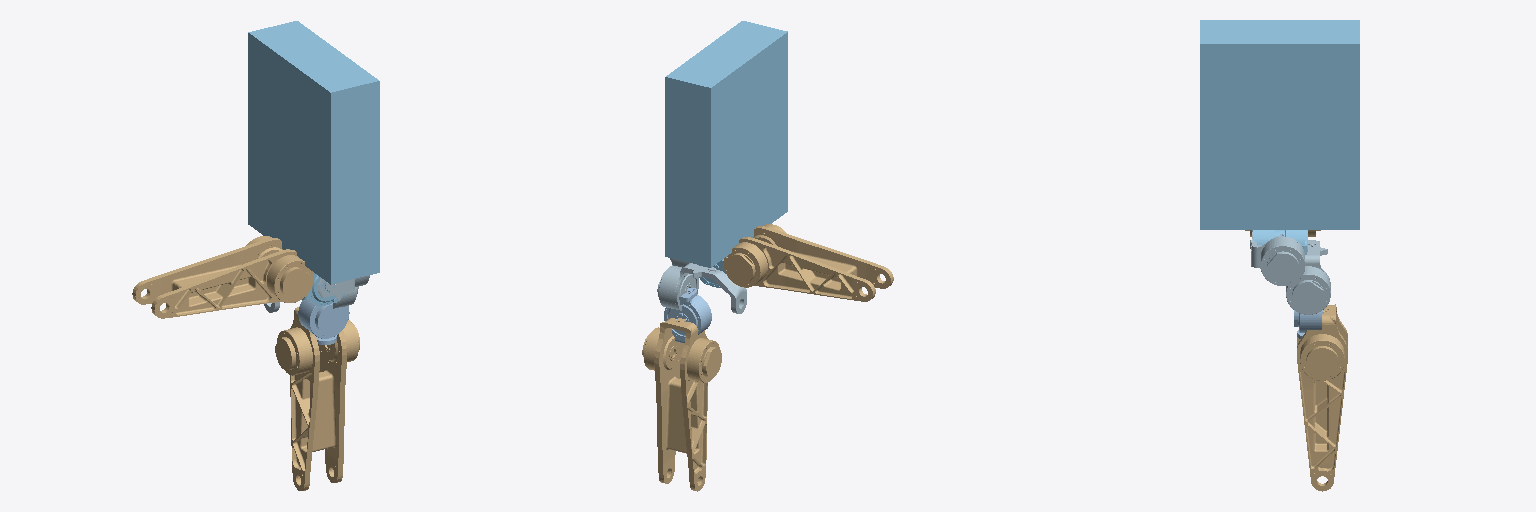
The robot description file, URDF, robot "onshape":
<?xml version="1.0"?>
<robot name="onshape">
  <link name="pelvis">
    <visual>
      <origin xyz="0 0 0" rpy="0 -0 0" />
      <geometry>
        <mesh filename="objects/pelvis_visual.obj"/>
      </geometry>
      <material name="pelvis_material">
        <color rgba="0.62532029905725461383 0.81645820502085475479 0.93089392232856704723 1.0"/>
      </material>
    </visual>
    <collision>
      <origin xyz="0 0 0" rpy="0 -0 0" />
      <geometry>
        <mesh filename="objects/pelvis_collision.obj"/>
      </geometry>
    </collision>
    <inertial>
      <origin xyz="-0.059926348514177954496 -3.5610200680893003136e-17 0.24382720253258152732" rpy="0 0 0"/>
      <mass value="26.987682948015642381" />
      <inertia ixx="0.83289256765053432119" ixy="3.1892774563517368547e-07"  ixz="0.00052931993668545586178" iyy="0.60676978629744049432" iyz="1.9081958235744878039e-17" izz="0.28953844474350470817" />
    </inertial>
  </link>

  <link name="hip_pitch">
    <visual>
      <origin xyz="0 0 0" rpy="0 -0 0" />
      <geometry>
        <mesh filename="objects/hip_pitch_visual.obj"/>
      </geometry>
      <material name="hip_pitch_material">
        <color rgba="0.73185158112174653056 0.81392767005015786985 0.8604379901161185451 1.0"/>
      </material>
    </visual>
    <collision>
      <origin xyz="0 0 0" rpy="0 -0 0" />
      <geometry>
        <mesh filename="objects/hip_pitch_collision.obj"/>
      </geometry>
    </collision>
    <inertial>
      <origin xyz="0.06264690243961958116 -2.9039129212797180842e-05 -0.056649373065881004907" rpy="0 0 0"/>
      <mass value="1.2186205403912051537" />
      <inertia ixx="0.12" ixy="2.0344409172977058653e-06"  ixz="0.00090153156749171346404" iyy="0.13" iyz="4.3388181338293928448e-07" izz="0.11" />
    </inertial>
  </link>

  <link name="hip_roll">
    <visual>
      <origin xyz="0 0 0" rpy="0 -0 0" />
      <geometry>
        <mesh filename="objects/hip_roll_visual.obj"/>
      </geometry>
      <material name="hip_roll_material">
        <color rgba="0.68639636760624267442 0.80885216598202025473 0.91513154554738251889 1.0"/>
      </material>
    </visual>
    <collision>
      <origin xyz="0 0 0" rpy="0 -0 0" />
      <geometry>
        <mesh filename="objects/hip_roll_collision.obj"/>
      </geometry>
    </collision>
    <inertial>
      <origin xyz="-4.600904063047769405e-05 0.0023700541052265509077 -0.062009288232252768314" rpy="0 0 0"/>
      <mass value="1.0036949262519998527" />
      <inertia ixx="0.12" ixy="-1.3656674854689924101e-06"  ixz="-8.7266717099951512649e-07" iyy="0.13" iyz="-3.3294113408689886096e-05" izz="0.11" />
    </inertial>
  </link>

  <link name="upper_leg">
    <visual>
      <origin xyz="0 0 0" rpy="0 -0 0" />
      <geometry>
        <mesh filename="objects/upper_leg_visual.obj"/>
      </geometry>
      <material name="upper_leg_material">
        <color rgba="0.8509746851951229818 0.74215485188645069492 0.56968403348327723013 1.0"/>
      </material>
    </visual>
    <collision>
      <origin xyz="0 0 0" rpy="0 -0 0" />
      <geometry>
        <mesh filename="objects/upper_leg_collision.obj"/>
      </geometry>
    </collision>
    <inertial>
      <origin xyz="1.2169508815199493428e-07 -0.00010242104306716834903 -0.12593596303035636819" rpy="0 0 0"/>
      <mass value="2.8517725769667174873" />
      <inertia ixx="0.14" ixy="-2.615454533586426231e-09"  ixz="-5.6953524560907943519e-06" iyy="0.15" iyz="-4.0533003869232252269e-05" izz="0.13" />
    </inertial>
  </link>

  <link name="lower_leg">
    <visual>
      <origin xyz="0 0 0" rpy="0 -0 0" />
      <geometry>
        <mesh filename="objects/lower_leg_visual.obj"/>
      </geometry>
      <material name="lower_leg_material">
        <color rgba="0.49805154997170436593 0.49807210711408739234 0.49808444139951718599 1.0"/>
      </material>
    </visual>
    <collision>
      <origin xyz="0 0 0" rpy="0 -0 0" />
      <geometry>
        <mesh filename="objects/lower_leg_collision.obj"/>
      </geometry>
    </collision>
    <inertial>
      <origin xyz="-0.0018854782981295029661 0.17714467231641864431 -0.035423701558162594416" rpy="0 0 0"/>
      <mass value="0.95382143937668972811" />
      <inertia ixx="0.13" ixy="-0.00018042886589993183599"  ixz="-9.38700194887034917e-06" iyy="0.14" iyz="-0.00024345951815343201382" izz="0.12" />
    </inertial>
  </link>

  <link name="foot">
    <visual>
      <origin xyz="0 0 0" rpy="0 -0 0" />
      <geometry>
        <mesh filename="objects/foot_visual.obj"/>
      </geometry>
      <material name="foot_material">
        <color rgba="0.76296916064842934535 0.86340935426862419622 0.92367347044074110674 1.0"/>
      </material>
    </visual>
    <collision>
      <origin xyz="0 0 0" rpy="0 -0 0" />
      <geometry>
        <mesh filename="objects/foot_collision.obj"/>
      </geometry>
    </collision>
    <inertial>
      <origin xyz="-0.023695230851708652675 0.054130161814016475308 -0.014144494510189380837" rpy="0 0 0"/>
      <mass value="0.67935904313279926736" />
      <inertia ixx="0.12" ixy="0.00037594983838428586544"  ixz="5.7551499311897592382e-06" iyy="0.13" iyz="-2.9314216224694187588e-06" izz="0.11" />
    </inertial>
  </link>

  <!-- @sharanya fix the urdf to be consistent across legs -->
  <joint name="R_ankle" type="revolute">
    <origin xyz="-2.7755575615628913511e-17 0.40000000000000229816 -0.02000000000000010103" rpy="-4.4717316339075486302e-16 2.1450168939924776738e-17 -1.110223024580866931e-16" />
    <parent link="lower_leg" />
    <child link="foot" />
    <axis xyz="0 0 1"/>
    <limit effort="120" velocity="23.800000000000000711" lower="-1.0471975511965976313" upper="0.43633231299858238339"/>
    <joint_properties friction="0.0"/>
  </joint>

  <joint name="R_knee" type="revolute">
    <origin xyz="-0.034000000000000002442 1.1796119636642288242e-16 -0.39030000000000003579" rpy="-1.570796326794896558 -2.1704860131417916548e-14 1.57079632679489678" />
    <parent link="upper_leg" />
    <child link="lower_leg" />
    <axis xyz="0 0 1"/>
    <limit effort="120" velocity="23.800000000000000711" lower="-2.356194490192344837" upper="0"/>
    <joint_properties friction="0.0"/>
  </joint>

  <joint name="R_hip_yaw" type="revolute">
    <origin xyz="0 0.03069999999999989404 -0.061999999999999978739" rpy="0 0 0" />
    <parent link="hip_roll" />
    <child link="upper_leg" />
    <axis xyz="0 0 1"/>
    <limit effort="120" velocity="23.800000000000000711" lower="-0.69813170079773179122" upper="0.69813170079773179122"/>
    <joint_properties friction="0.0"/>
  </joint>

  <joint name="R_hip_roll" type="revolute">
    <origin xyz="0.061999999999999992617 3.4694469519536141888e-18 -0.069000000000000019651" rpy="0 1.57 0" />
    <parent link="hip_pitch" />
    <child link="hip_roll" />
    <axis xyz="0 0 1"/>
    <limit effort="120" velocity="23.800000000000000711" lower="-0.1745329251994329478" upper="1.0471975511965976313"/>
    <joint_properties friction="0.0"/>
  </joint>

  <joint name="R_hip_pitch" type="revolute">
    <origin xyz="-0.05900000000000000383 -0.062400000000000011013 -0.022499999999999992228" rpy="1.57 0 0" />
    <parent link="pelvis" />
    <child link="hip_pitch" />
    <axis xyz="0 0 1"/>
    <limit effort="120" velocity="23.800000000000000711" lower="-2.1816615649929120835" upper="0.61086523819801530344"/>
    <joint_properties friction="0.0"/>
  </joint>

  <link name="hip_pitch_2">
    <visual>
      <origin xyz="0 0 0" rpy="0 -0 0" />
      <geometry>
        <mesh filename="objects/hip_pitch_2_visual.obj"/>
      </geometry>
      <material name="hip_pitch_2_material">
        <color rgba="0.73185158112174653056 0.81392767005015786985 0.8604379901161185451 1.0"/>
      </material>
    </visual>
    <collision>
      <origin xyz="0 0 0" rpy="0 -0 0" />
      <geometry>
        <mesh filename="objects/hip_pitch_2_collision.obj"/>
      </geometry>
    </collision>
    <inertial>
      <origin xyz="0.062646902439619414626 -2.9039129212794361916e-05 -0.056649373065881018785" rpy="0 0 0"/>
      <mass value="1.2186205403912051537" />
      <inertia ixx="0.12" ixy="2.0344409172897064861e-06"  ixz="0.00090153156749170641673" iyy="0.13" iyz="4.3388181338343273411e-07" izz="0.11" />
    </inertial>
  </link>

  <link name="hip_roll_2">
    <visual>
      <origin xyz="0 0 0" rpy="0 -0 0" />
      <geometry>
        <mesh filename="objects/hip_roll_2_visual.obj"/>
      </geometry>
      <material name="hip_roll_2_material">
        <color rgba="0.68639636760624267442 0.80885216598202025473 0.91513154554738251889 1.0"/>
      </material>
    </visual>
    <collision>
      <origin xyz="0 0 0" rpy="0 -0 0" />
      <geometry>
        <mesh filename="objects/hip_roll_2_collision.obj"/>
      </geometry>
    </collision>
    <inertial>
      <origin xyz="-4.6009040630453102989e-05 0.0023700541052264221045 -0.062009288232252775253" rpy="0 0 0"/>
      <mass value="1.0036949262519998527" />
      <inertia ixx="0.12" ixy="-1.3656674854690025745e-06"  ixz="-8.7266717099952963193e-07" iyy="0.13" iyz="-3.32941134086995626e-05" izz="0.11" />
    </inertial>
  </link>

  <link name="upper_leg_2">
    <visual>
      <origin xyz="0 0 0" rpy="0 -0 0" />
      <geometry>
        <mesh filename="objects/upper_leg_2_visual.obj"/>
      </geometry>
      <material name="upper_leg_2_material">
        <color rgba="0.8509746851951229818 0.74215485188645069492 0.56968403348327723013 1.0"/>
      </material>
    </visual>
    <collision>
      <origin xyz="0 0 0" rpy="0 -0 0" />
      <geometry>
        <mesh filename="objects/upper_leg_2_collision.obj"/>
      </geometry>
    </collision>
    <inertial>
      <origin xyz="1.216950881592945054e-07 -0.0001024210430671724961 -0.12593596303035636819" rpy="0 0 0"/>
      <mass value="2.8517725769667174873" />
      <inertia ixx="0.14" ixy="-2.6154545366744965984e-09"  ixz="-5.6953524560933964371e-06" iyy="0.15" iyz="-4.0533003869231798259e-05" izz="0.13" />
    </inertial>
  </link>

  <link name="lower_leg_2">
    <visual>
      <origin xyz="0 0 0" rpy="0 -0 0" />
      <geometry>
        <mesh filename="objects/lower_leg_2_visual.obj"/>
      </geometry>
      <material name="lower_leg_2_material">
        <color rgba="0.49805154997170436593 0.49807210711408739234 0.49808444139951718599 1.0"/>
      </material>
    </visual>
    <collision>
      <origin xyz="0 0 0" rpy="0 -0 0" />
      <geometry>
        <mesh filename="objects/lower_leg_2_collision.obj"/>
      </geometry>
    </collision>
    <inertial>
      <origin xyz="-0.0018854782981303119978 0.1771446723164160908 -0.035423701558160068659" rpy="0 0 0"/>
      <mass value="0.95382143937668972811" />
      <inertia ixx="0.13" ixy="-0.00018042886589992915259"  ixz="-9.3870019489552286476e-06" iyy="0.14" iyz="-0.00024345951815341707893" izz="0.12" />
    </inertial>
  </link>

  <link name="foot_2">
    <visual>
      <origin xyz="0 0 0" rpy="0 -0 0" />
      <geometry>
        <mesh filename="objects/foot_2_visual.obj"/>
      </geometry>
      <material name="foot_2_material">
        <color rgba="0.76296916064842934535 0.86340935426862419622 0.92367347044074110674 1.0"/>
      </material>
    </visual>
    <collision>
      <origin xyz="0 0 0" rpy="0 -0 0" />
      <geometry>
        <mesh filename="objects/foot_2_collision.obj"/>
      </geometry>
    </collision>
    <inertial>
      <origin xyz="-0.023695230851708735942 0.054130161814016808375 -0.014144494510189451961" rpy="0 0 0"/>
      <mass value="0.67935904313279926736" />
      <inertia ixx="0.12" ixy="0.00037594983838428662438"  ixz="5.7551499311896084664e-06" iyy="0.13" iyz="-2.9314216224699549307e-06" izz="0.11" />
    </inertial>
  </link>

  <joint name="L_ankle" type="revolute">
    <origin xyz="-1.8873791418627661187e-15 0.39999999999999413802 -0.019999999999995327071" rpy="2.1451975998011550152e-14 8.104628079762191241e-15 -1.8082757514969442743e-14" />
    <parent link="lower_leg_2" />
    <child link="foot_2" />
    <axis xyz="0 0 1"/>
    <limit effort="120" velocity="23.800000000000000711" lower="-1.0471975511965976313" upper="0.43633231299858238339"/>
    <joint_properties friction="0.0"/>
  </joint>

  <joint name="L_knee" type="revolute">
    <origin xyz="-0.034000000000000002442 1.1796119636642288242e-16 -0.3903000000000000913" rpy="-1.570796326794896558 4.2743586448068329591e-15 1.5707963267949047736" />
    <parent link="upper_leg_2" />
    <child link="lower_leg_2" />
    <axis xyz="0 0 1"/>
    <limit effort="120" velocity="23.800000000000000711" lower="-2.356194490192344837" upper="0"/>
    <joint_properties friction="0.0"/>
  </joint>

  <joint name="L_hip_yaw" type="revolute">
    <origin xyz="2.7755575615628913511e-17 0.030699999999999963429 -0.061999999999999985678" rpy="0 0 0" />
    <parent link="hip_roll_2" />
    <child link="upper_leg_2" />
    <axis xyz="0 0 1"/>
    <limit effort="120" velocity="23.800000000000000711" lower="-0.69813170079773179122" upper="0.69813170079773179122"/>
    <joint_properties friction="0.0"/>
  </joint>

  <joint name="L_hip_roll" type="revolute">
    <origin xyz="0.062000000000000186906 1.3877787807814456755e-17 -0.069000000000000061284" rpy="0 0 0" />
    <parent link="hip_pitch_2" />
    <child link="hip_roll_2" />
    <axis xyz="0 0 1"/>
    <limit effort="120" velocity="23.800000000000000711" lower="-1.0471975511965976313" upper="0.1745329251994329478"/>
    <joint_properties friction="0.0"/>
  </joint>

  <joint name="L_hip_pitch" type="revolute">
    <origin xyz="-0.059000000000000010769 0.062399999999999997136 -0.022499999999999992228" rpy= "0 0 0" />
    <parent link="pelvis" />
    <child link="hip_pitch_2" />
    <axis xyz="0 0 1"/>
    <limit effort="120" velocity="23.800000000000000711" lower="-0.61086523819801530344" upper="2.1816615649929120835"/>
    <joint_properties friction="0.0"/>
  </joint>

</robot>

--- Facts derived from the render (not from the file) ---
3 views of the same robot in one strip: view 1: azimuth 30°, elevation 25°; view 2: azimuth 150°, elevation 25°; view 3: azimuth 270°, elevation 25° (orthographic).
Robot: onshape — 11 links, 10 joints (10 revolute); root link pelvis; default pose: all joints at 0.
Visible links, largest first — view 1: pelvis, upper_leg, upper_leg_2, hip_roll_2, hip_pitch; view 2: pelvis, upper_leg_2, upper_leg, hip_pitch_2, hip_roll_2; view 3: pelvis, upper_leg_2, hip_pitch, hip_pitch_2.
Link boxes in pixels (left/top/right/bottom): pelvis: left=248, top=21, right=379, bottom=306; upper_leg: left=132, top=236, right=313, bottom=318; upper_leg_2: left=275, top=306, right=359, bottom=490; hip_roll_2: left=298, top=300, right=349, bottom=344; hip_pitch: left=318, top=275, right=369, bottom=300; pelvis: left=665, top=21, right=787, bottom=287; upper_leg_2: left=642, top=318, right=721, bottom=491; upper_leg: left=723, top=224, right=893, bottom=301; hip_pitch_2: left=657, top=263, right=746, bottom=313; hip_roll_2: left=664, top=288, right=711, bottom=342; pelvis: left=1200, top=20, right=1359, bottom=254; upper_leg_2: left=1297, top=304, right=1347, bottom=491; hip_pitch: left=1250, top=232, right=1304, bottom=285; hip_pitch_2: left=1286, top=240, right=1330, bottom=314.
Bounding box of the posed robot: 0.5612 × 0.35 × 1.06 m (x, y, z).
Meshes: 11 distinct files referenced, 7 mesh visuals loaded (7 OBJ); not drawn: 4 (reference not matched to a file when rendering).
